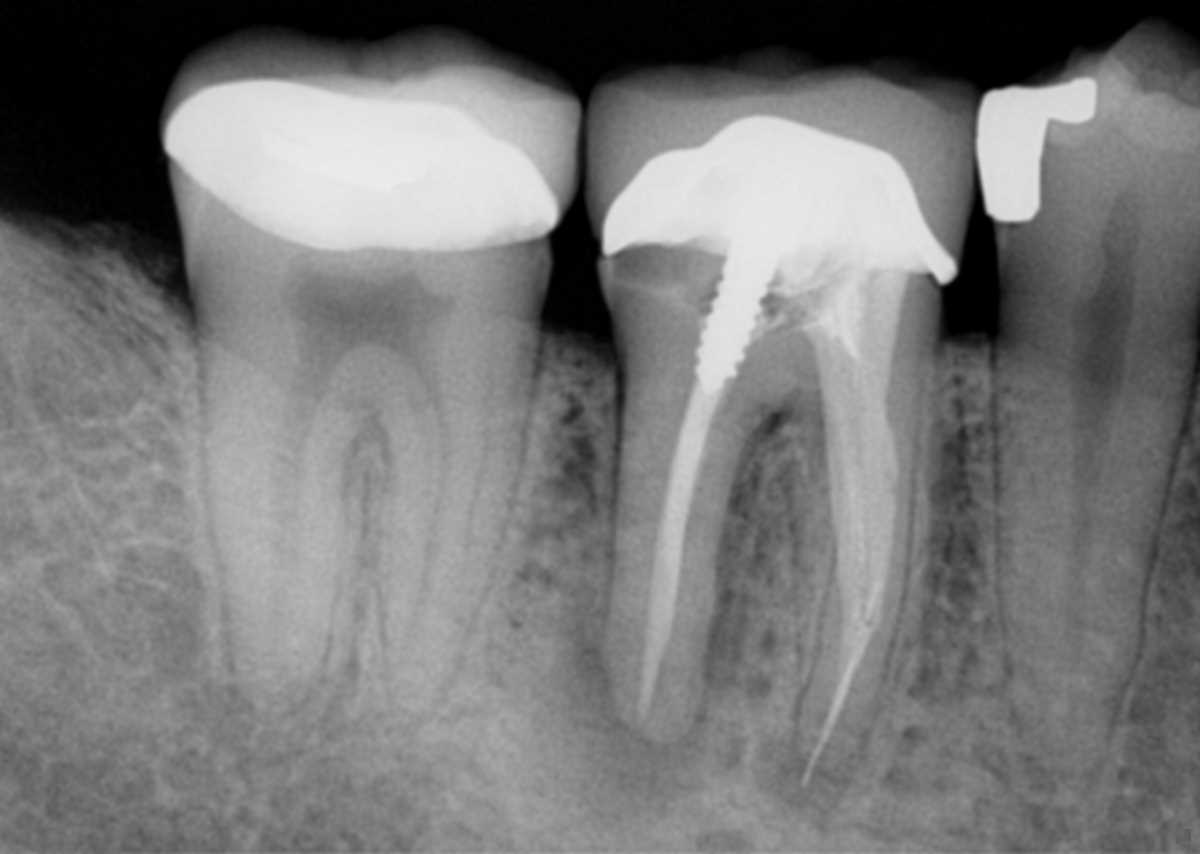Apical Lesion: (525, 557, 765, 827), (754, 721, 853, 821)
Distal Canal: (271, 372, 327, 679)
Distal Root: (606, 364, 774, 740), (201, 335, 366, 707)
Main Canal: (1064, 386, 1124, 749)
Main Root: (984, 356, 1184, 829)
Mesial Canal: (395, 389, 449, 678)
Mesial Root: (782, 386, 934, 760), (380, 384, 532, 714)
Root Canal Filling: (811, 269, 911, 658), (636, 379, 726, 731)
